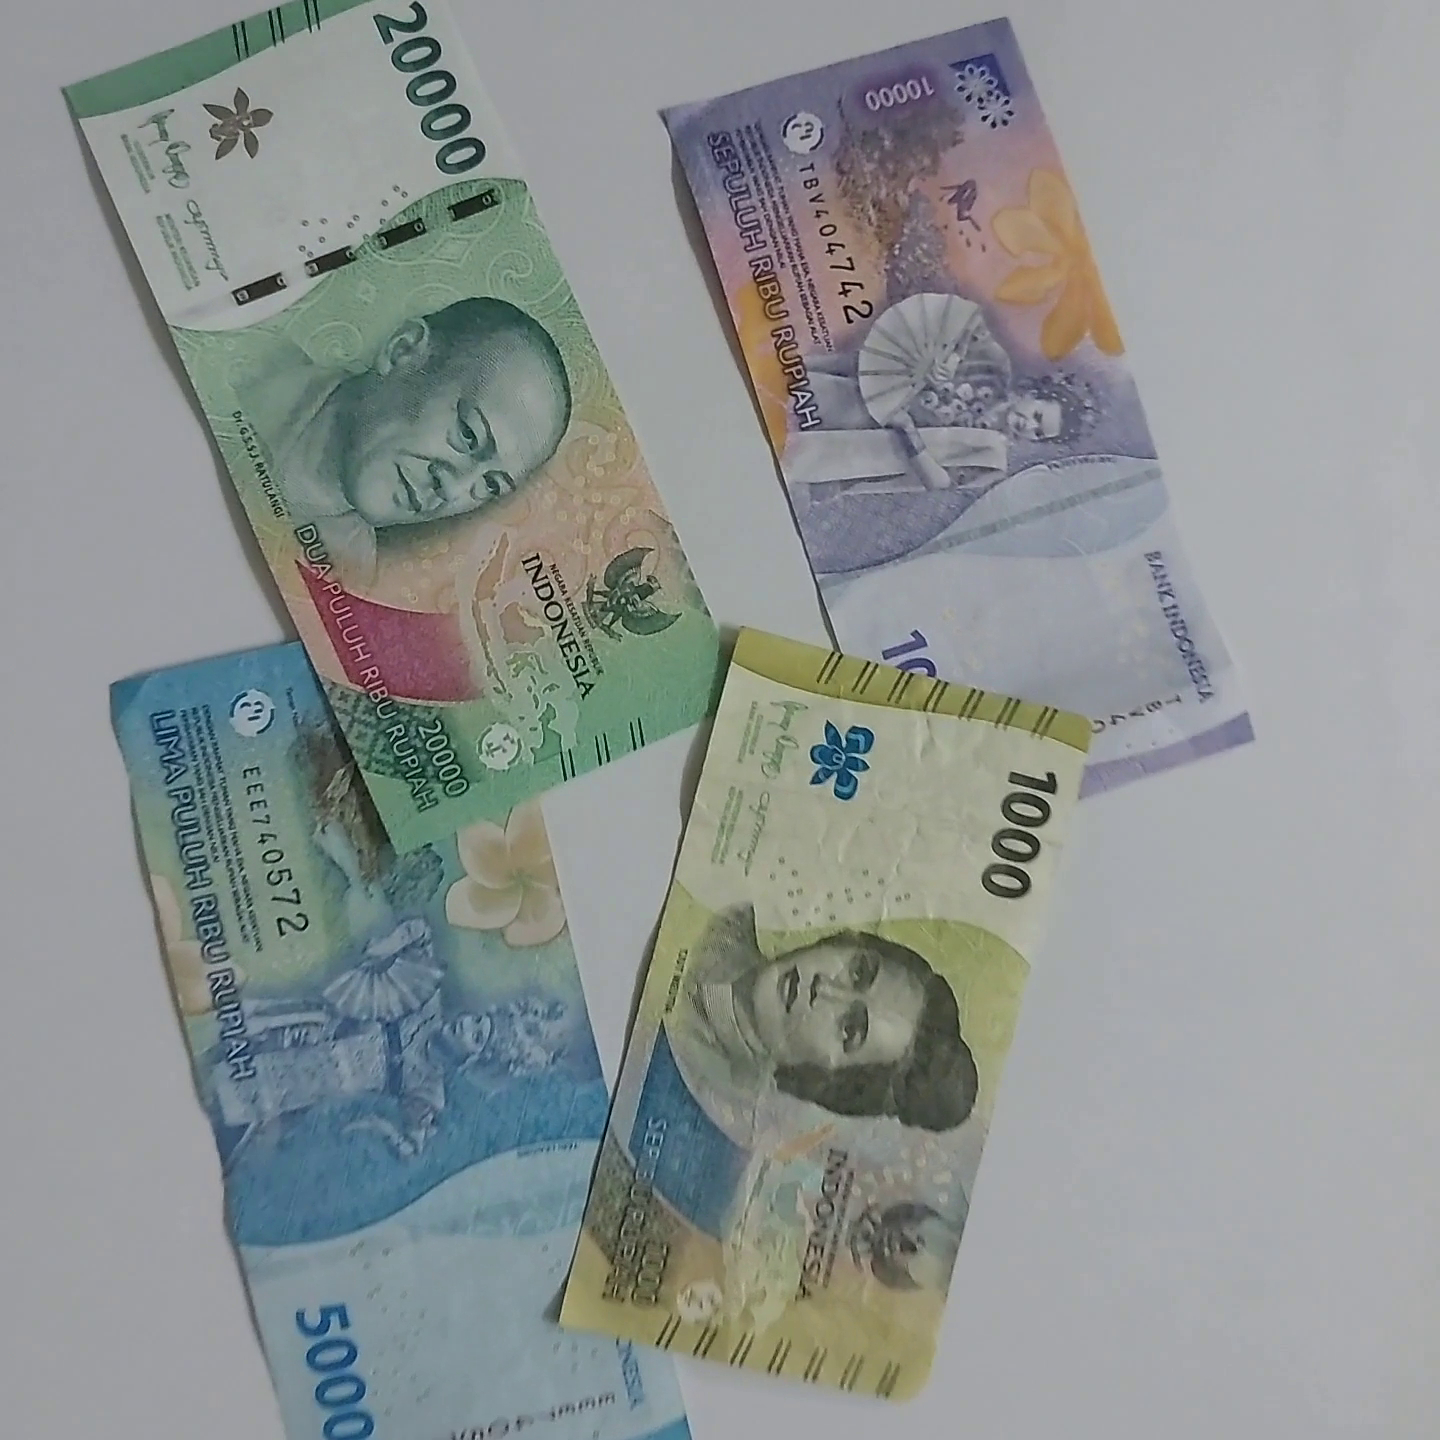10k: (666, 0, 1290, 845)
1k: (720, 571, 1122, 1371)
20k: (33, 11, 744, 835)
50k: (103, 633, 686, 1440)
